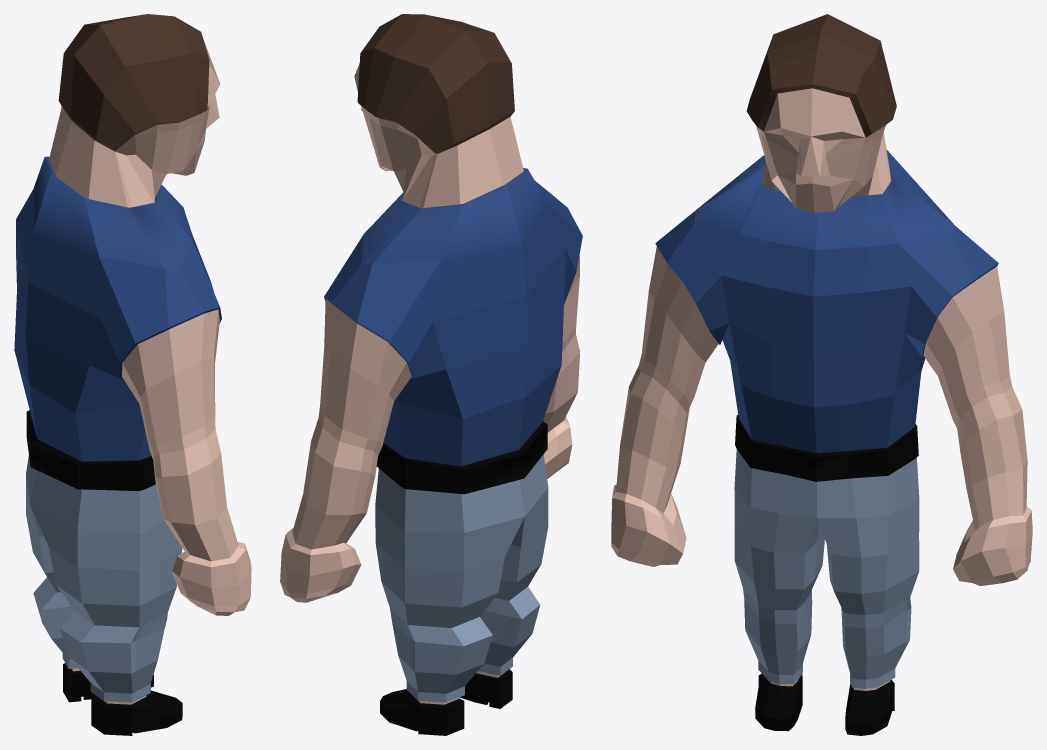
Rendered from Client2.fbx.
3 views of the same model, side by side, from view 1: azimuth 30°, elevation 25°; view 2: azimuth 150°, elevation 25°; view 3: azimuth 270°, elevation 25° (orthographic).
Parts seen in each view (by area): view 1: Cylinder.008; view 2: Cylinder.008; view 3: Cylinder.008.
Part boxes in pixels (left/top/right/bottom): Cylinder.008: left=14, top=14, right=251, bottom=735; Cylinder.008: left=280, top=14, right=582, bottom=735; Cylinder.008: left=611, top=14, right=1032, bottom=735.
Size of the model in its own units: 52.95 by 196 by 108.
